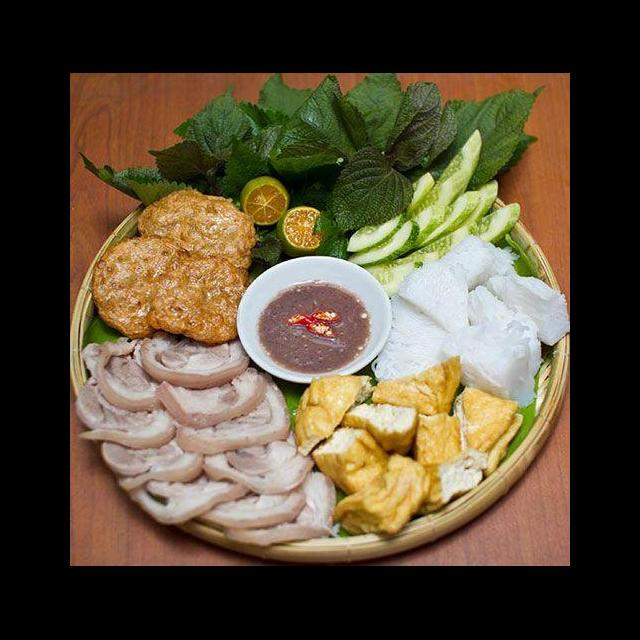bun: (359, 226, 570, 418)
bun dau: (76, 144, 562, 566)
cha com: (89, 184, 263, 346)
dau hu: (285, 352, 532, 544)
thit heo: (71, 326, 347, 550)
